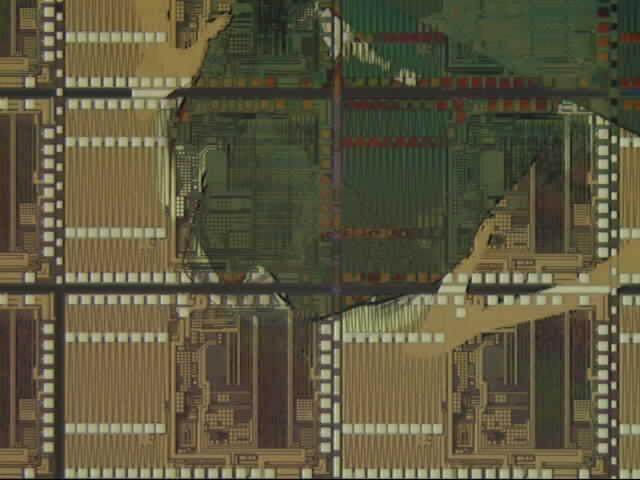COATING BAD: (133, 1, 640, 360)
